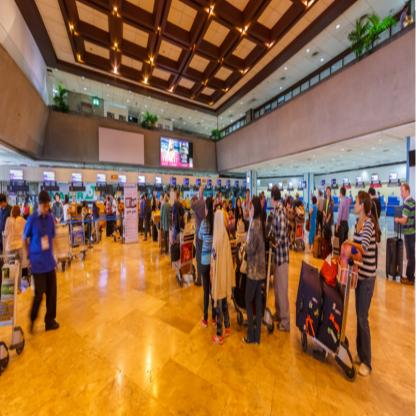airport-trolley: (294, 247, 366, 380), (230, 235, 275, 333), (0, 249, 26, 378), (172, 226, 198, 286), (58, 222, 89, 269)
